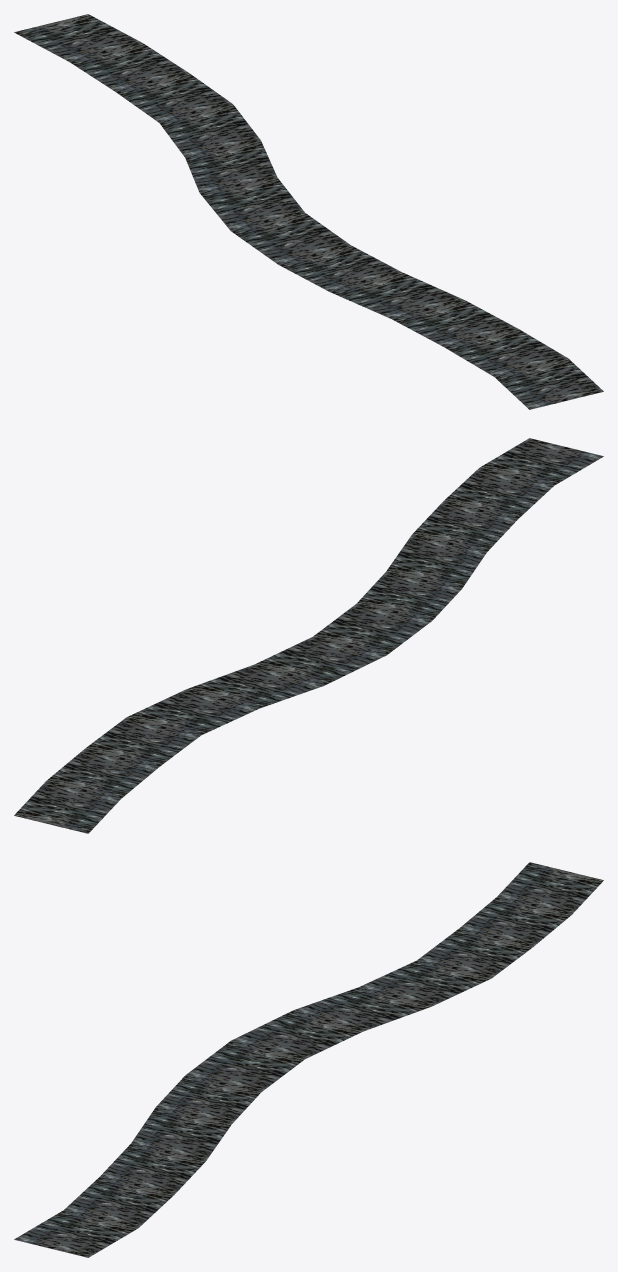
File: OZ_28_ho_riv02A.glb
3 views of the same model, one above another, from view 1: azimuth 30°, elevation 25°; view 2: azimuth 150°, elevation 25°; view 3: azimuth 330°, elevation 25° (orthographic).
Parts seen in each view (by area): view 1: OM_28_ho_riv02A; view 2: OM_28_ho_riv02A; view 3: OM_28_ho_riv02A.
Part boxes in pixels (x1,y1,x2,y2): OM_28_ho_riv02A: (14,14,603,409); OM_28_ho_riv02A: (14,438,603,833); OM_28_ho_riv02A: (14,862,603,1257).
Size of the model in its own units: 5.3 by 0.01 by 36.
Materials: 2 (2 with a texture image).
